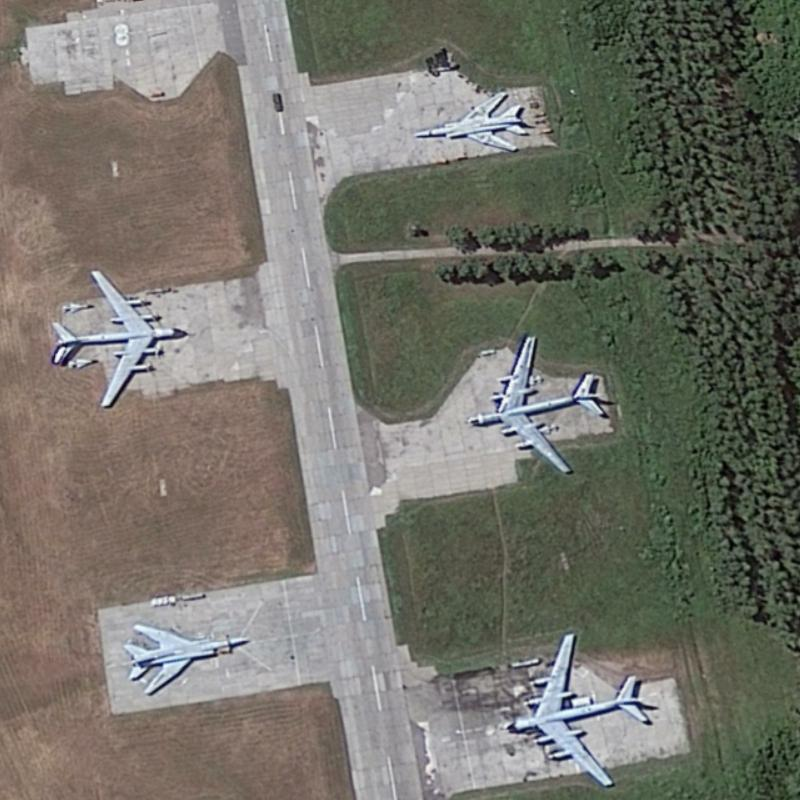A12: (120, 621, 251, 696), (409, 89, 527, 153)
A17: (503, 630, 650, 788), (47, 266, 188, 409), (464, 333, 606, 474)
